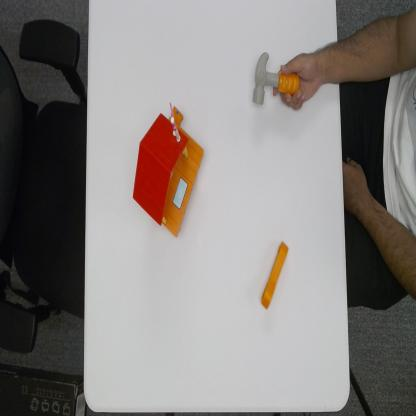Arm: (314, 36, 339, 94)
Hammer: (252, 51, 301, 108)
Hand: (273, 52, 321, 115)
House: (132, 100, 206, 240)
Screwdriver: (259, 238, 290, 312)
